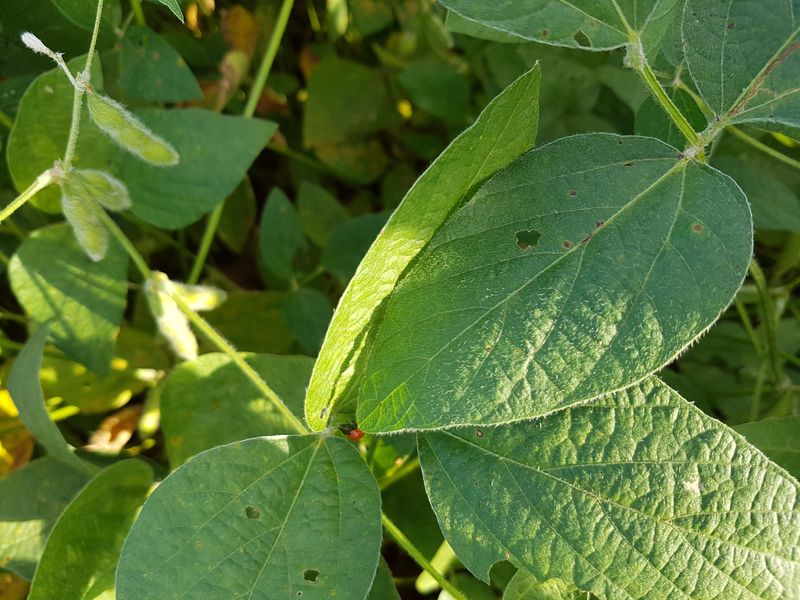Coccinellidae: (333, 414, 370, 447)
